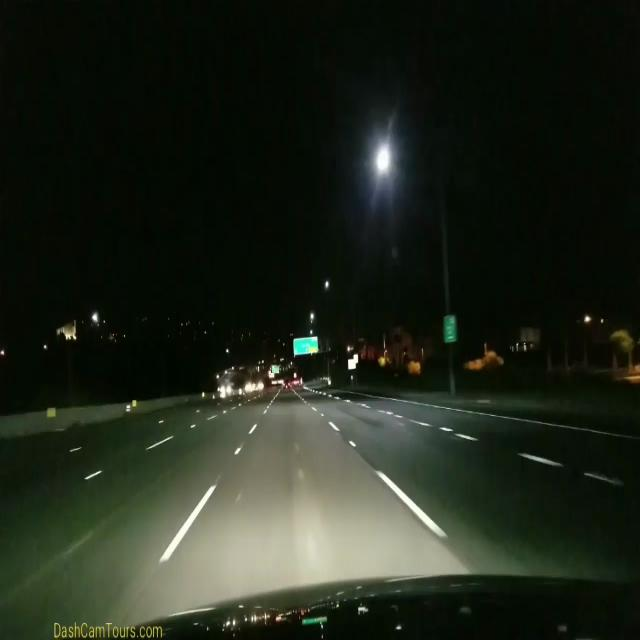street-signs: (293, 337, 319, 355), (444, 314, 456, 344), (272, 364, 280, 373)
